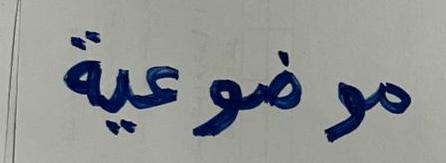ain: (138, 50, 185, 125)
dad: (251, 35, 311, 137)
meem: (375, 60, 421, 134)
teh_marbota: (43, 24, 103, 119)
waw: (188, 64, 249, 155), (318, 68, 371, 153)
yeh: (105, 46, 136, 152)
